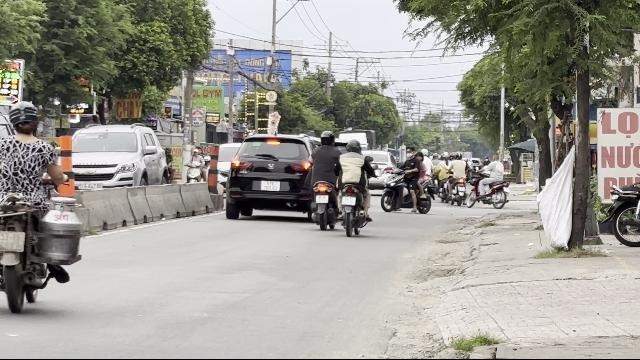helmet: (6, 100, 42, 136)
licenseplate: (0, 231, 24, 251)
motorcyclist: (0, 98, 84, 312)
